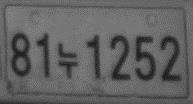1: (85, 33, 102, 81), (34, 31, 51, 78)
2: (108, 34, 133, 82), (159, 34, 183, 81)
5: (133, 34, 158, 81)
8: (10, 31, 32, 77)
누: (55, 40, 79, 80)
